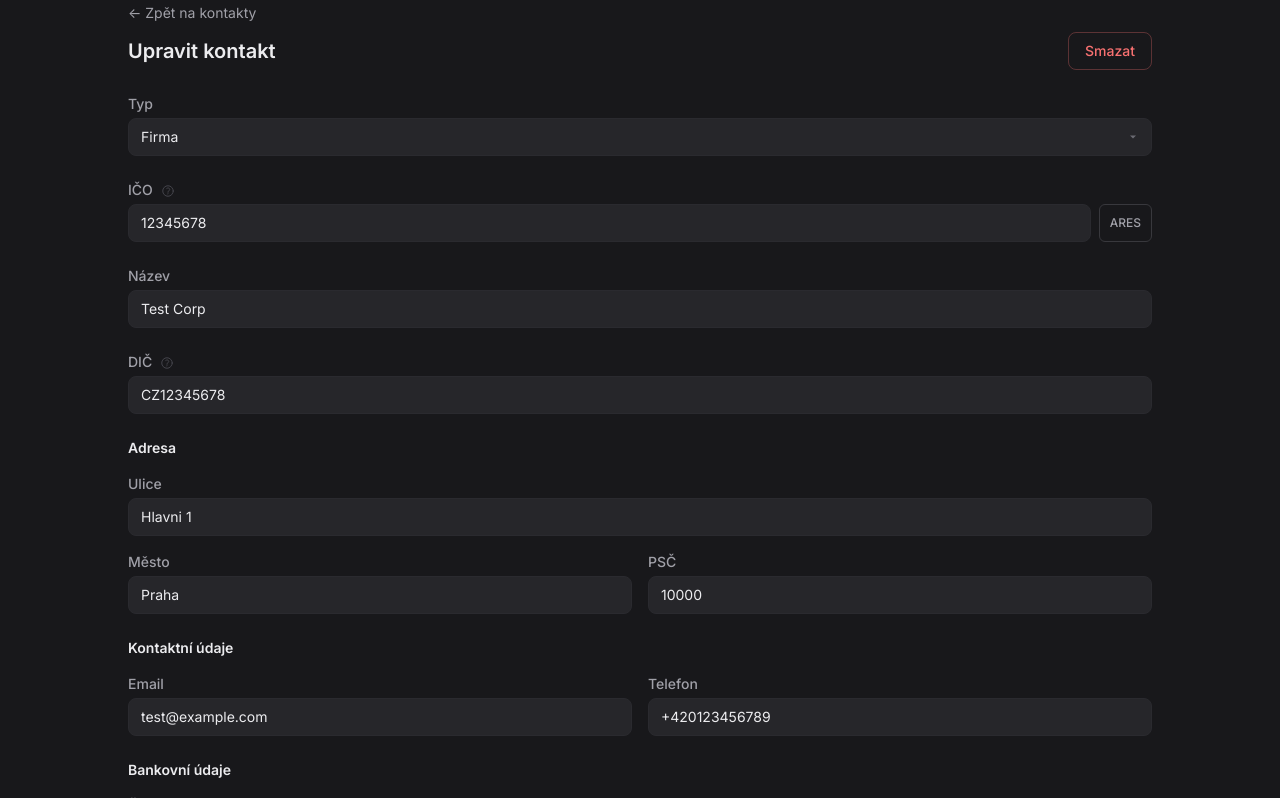
Test: Contact detail page - edit mode › ARES lookup fills fields
Expected: the field labelled "Název" is shown, [128, 290, 1152, 328]
Click the button "ARES".
click(1125, 223)  # box [1099, 204, 1152, 242]
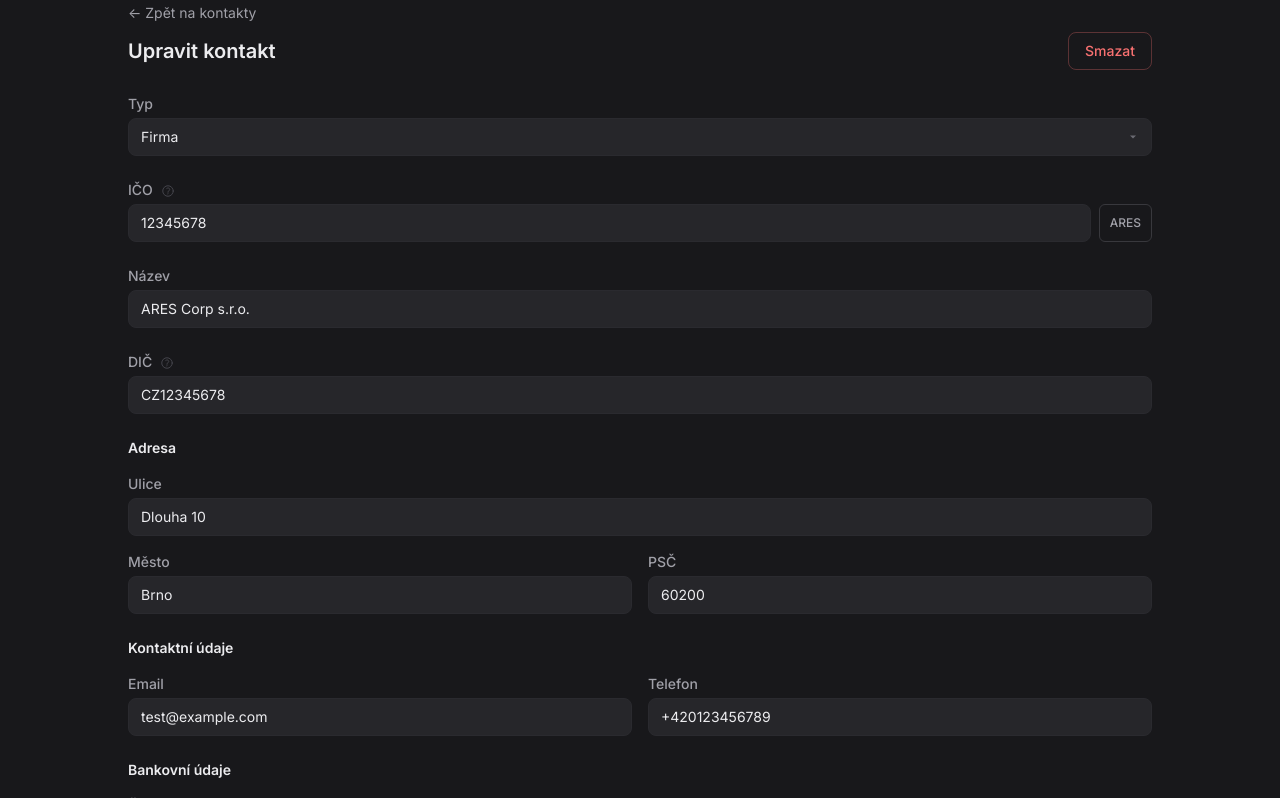
Expected: the field labelled "Název" holds "ARES Corp s.r.o.", [128, 290, 1152, 328]
Expected: the field labelled "Ulice" holds "Dlouha 10", [128, 498, 1152, 536]
Expected: the field labelled "Město" holds "Brno", [128, 576, 632, 614]
